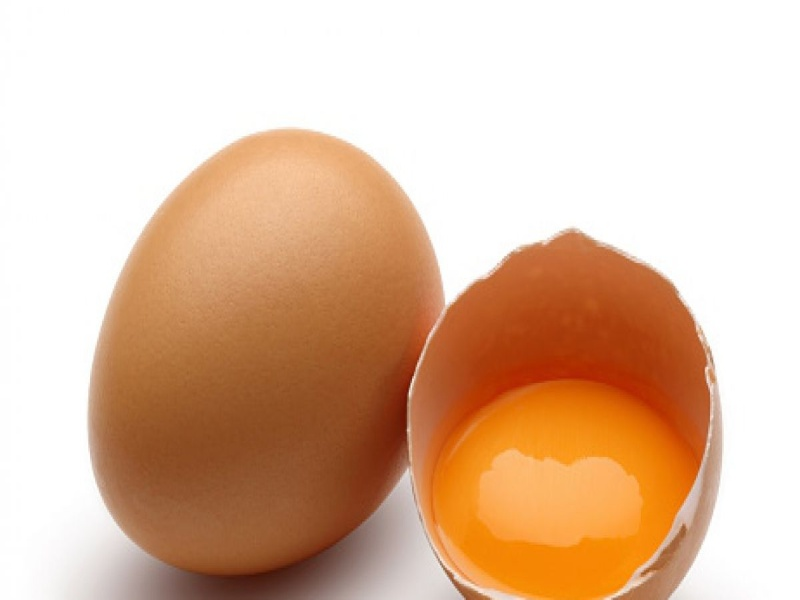Huevo: (86, 127, 446, 574), (407, 227, 726, 599)
